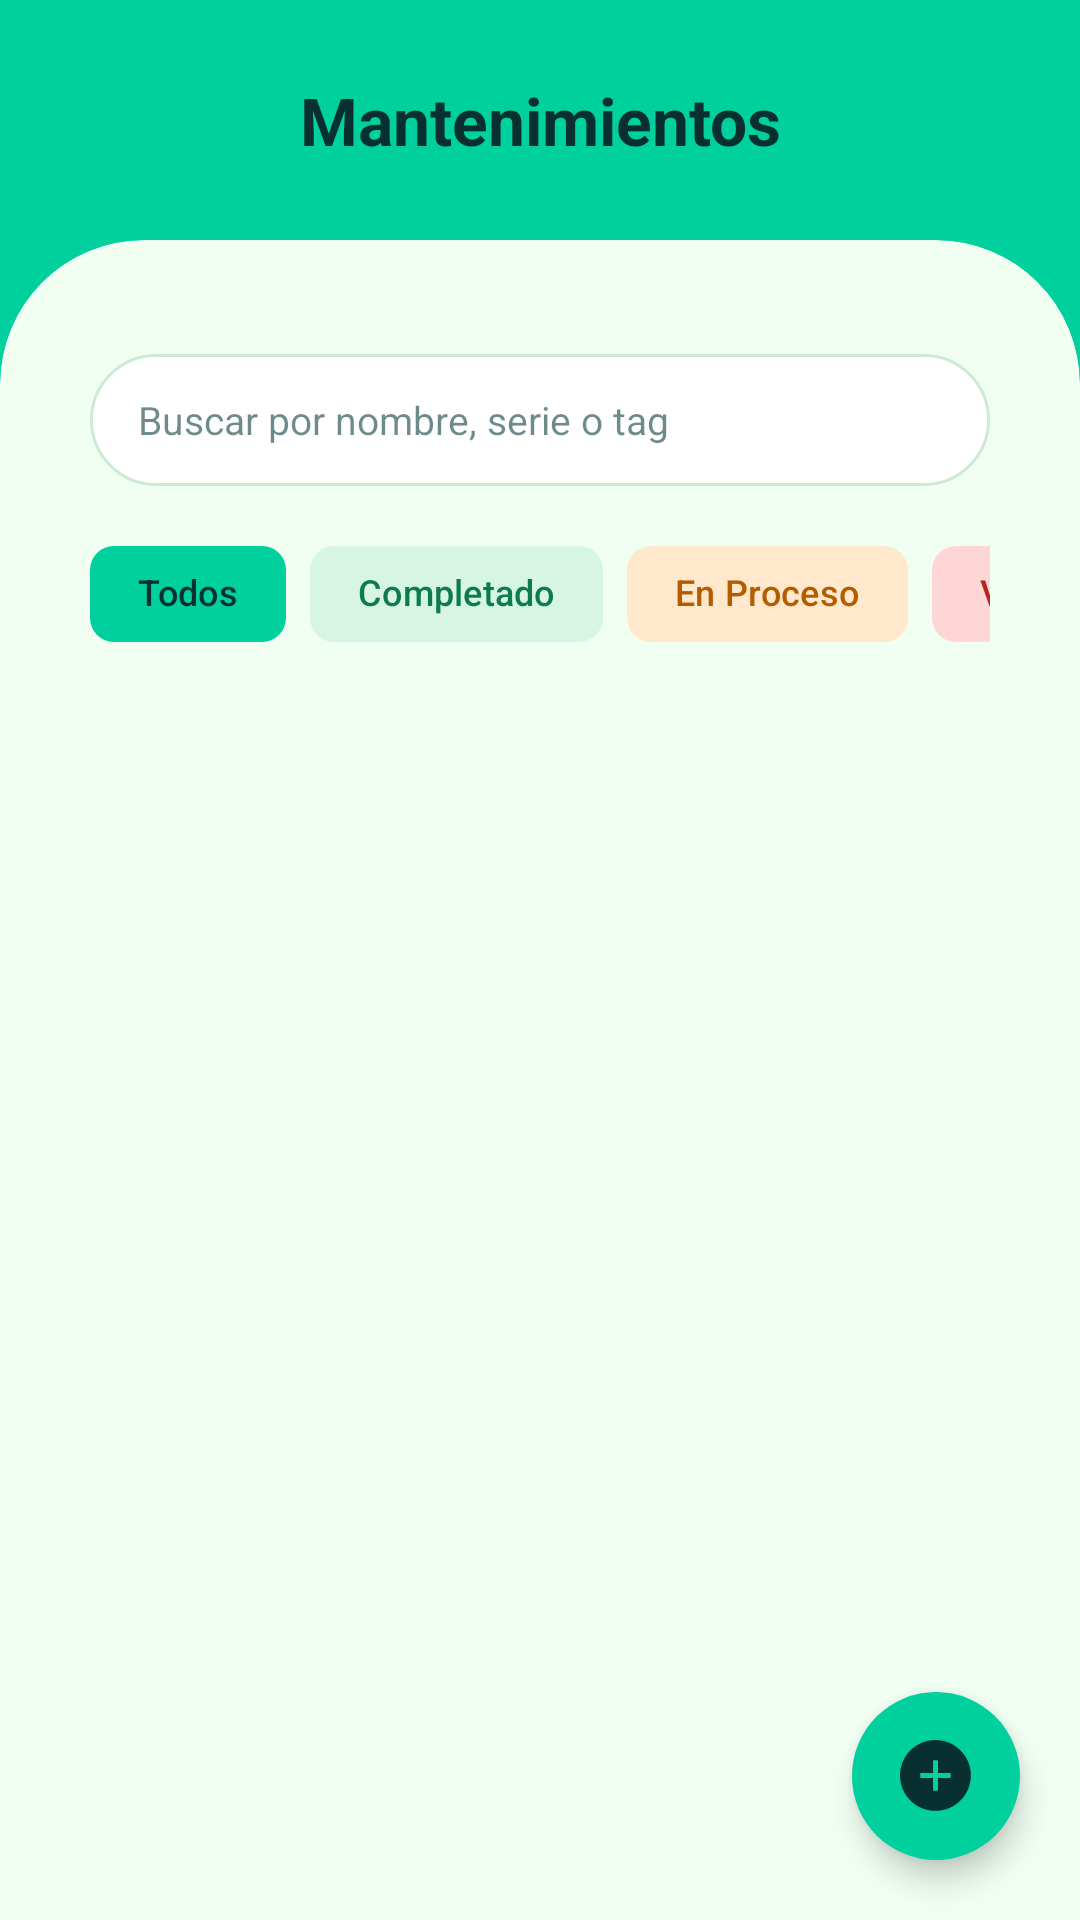

Icons on this 1080*1920 Android screen, each with its box as (x1, y1, x2, y2):
Agregar mantenimiento: (852, 1692, 1020, 1860)
